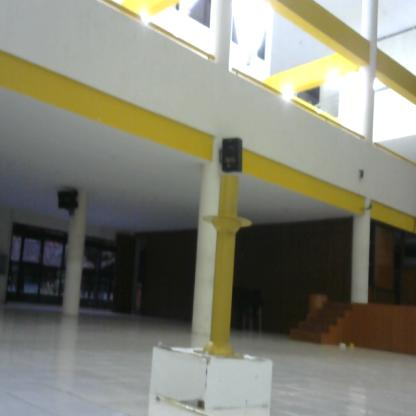pole: (189, 174, 255, 367)
